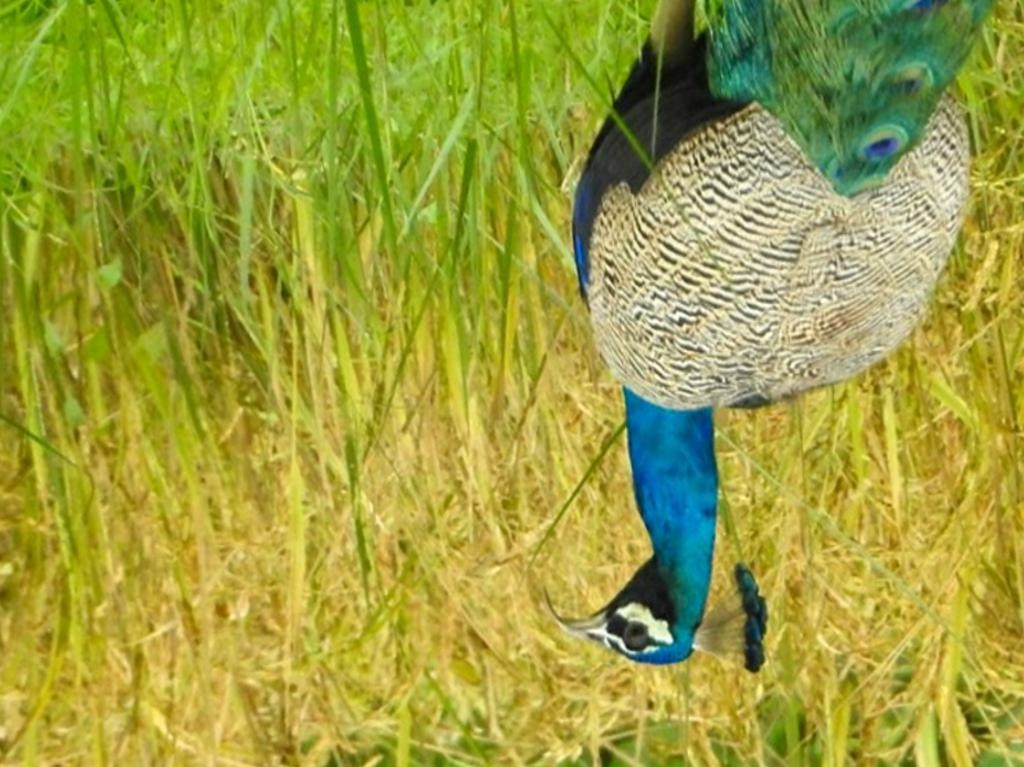peacock: (186, 215, 1024, 543), (525, 22, 915, 704)
